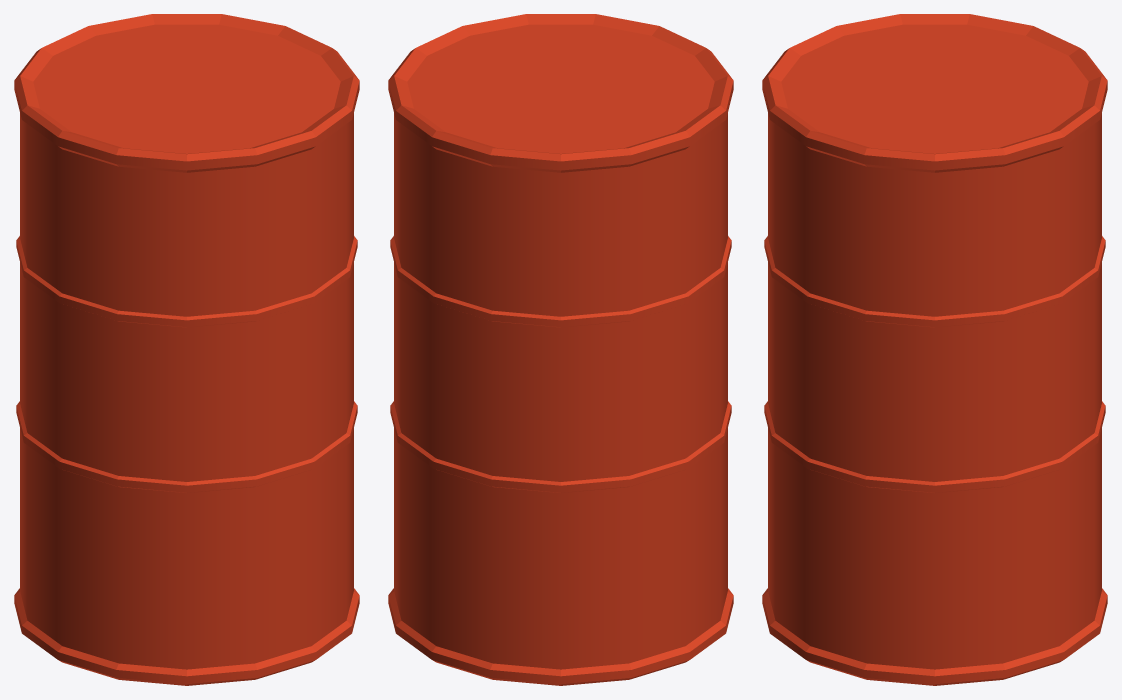
Rendered from Bidon metal.fbx.
The picture shows the model from 3 angles, left to right: view 1: azimuth 30°, elevation 25°; view 2: azimuth 150°, elevation 25°; view 3: azimuth 270°, elevation 25°; orthographic projection.
Visible parts, largest first — view 1: Bidon Metal; view 2: Bidon Metal; view 3: Bidon Metal.
Boxes of the visible parts, x1,y1,x2,y2 form: Bidon Metal: (14, 14, 359, 685); Bidon Metal: (388, 14, 733, 685); Bidon Metal: (762, 14, 1107, 685).
Bounding box in the file's own units: 17.87 × 30.52 × 17.96.
